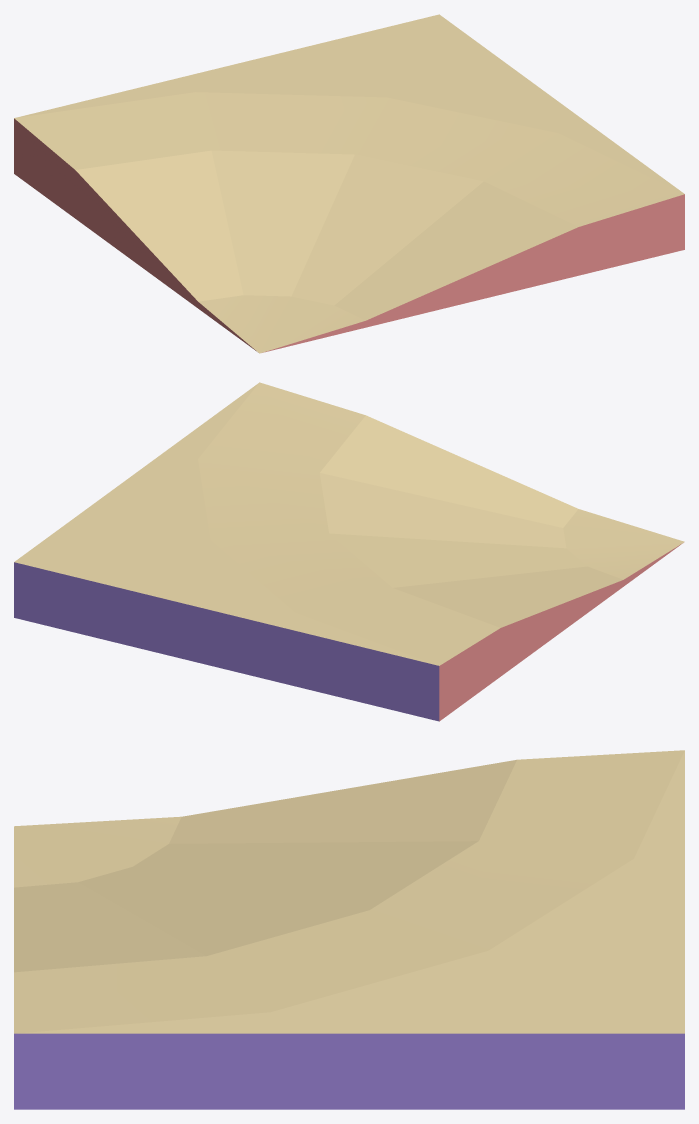
File: Terrain_Sand_Incline_Curve_Inner_4x4.glb
3 renders of one model, top to bottom at view 1: azimuth 30°, elevation 25°; view 2: azimuth 150°, elevation 25°; view 3: azimuth 270°, elevation 25°, orthographic. The views are drawn at different scales.
Visible parts, largest first — view 1: Terrain_Sand_Incline_Curve_Inner_4x4; view 2: Terrain_Sand_Incline_Curve_Inner_4x4; view 3: Terrain_Sand_Incline_Curve_Inner_4x4.
Boxes of the visible parts, x1=… form: Terrain_Sand_Incline_Curve_Inner_4x4: x1=14, y1=14, x2=684, y2=353; Terrain_Sand_Incline_Curve_Inner_4x4: x1=14, y1=382, x2=684, y2=721; Terrain_Sand_Incline_Curve_Inner_4x4: x1=14, y1=750, x2=684, y2=1109.
Bounding box in the file's own units: 400 × 50 × 400.
